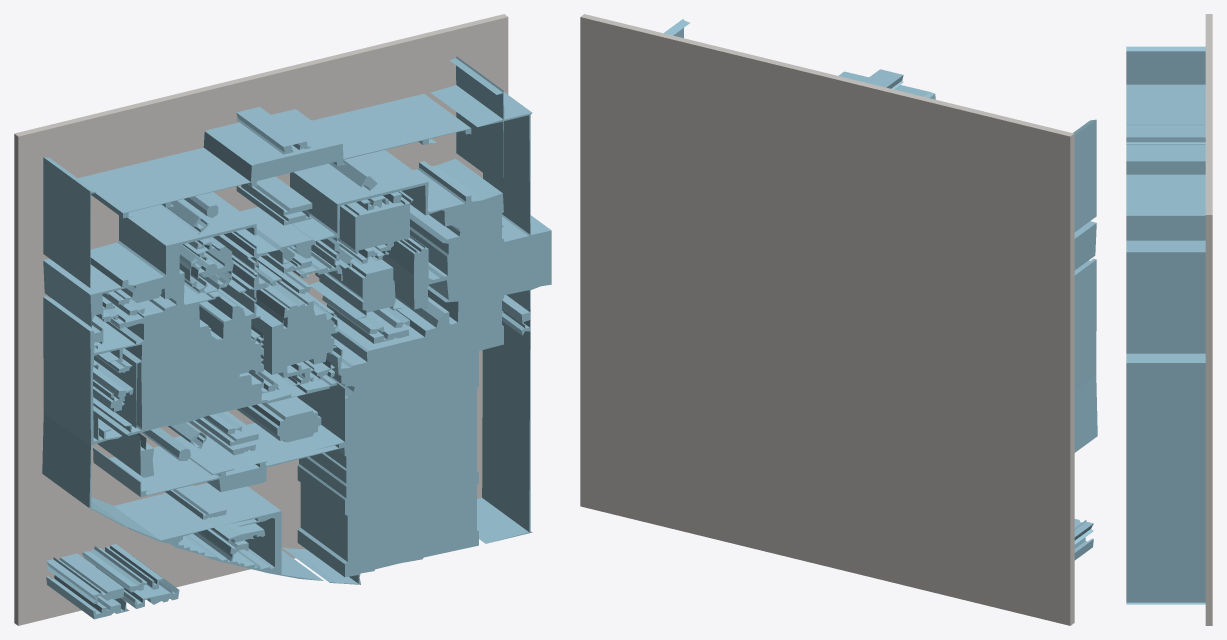
3 renders of one model, left to right at view 1: azimuth 30°, elevation 25°; view 2: azimuth 150°, elevation 25°; view 3: azimuth 270°, elevation 25°, orthographic. The views are drawn at different scales.
Parts seen in each view (by area): view 1: world; view 2: world; view 3: world.
Part boxes in pixels (x1,y1,x2,y2): world: (14, 14, 551, 625); world: (580, 14, 1097, 625); world: (1126, 14, 1212, 625).
Size of the model in its own units: 10.23 by 9.76 by 1.86.
